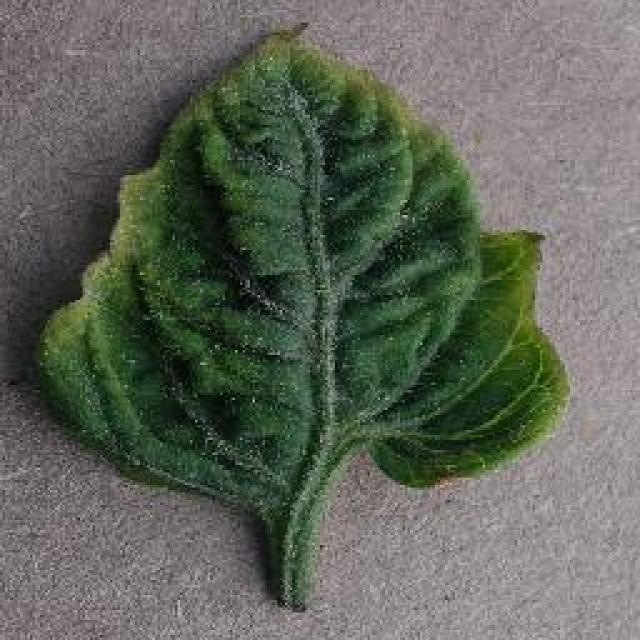Tomato yellow virus leaf: (44, 23, 568, 504)
